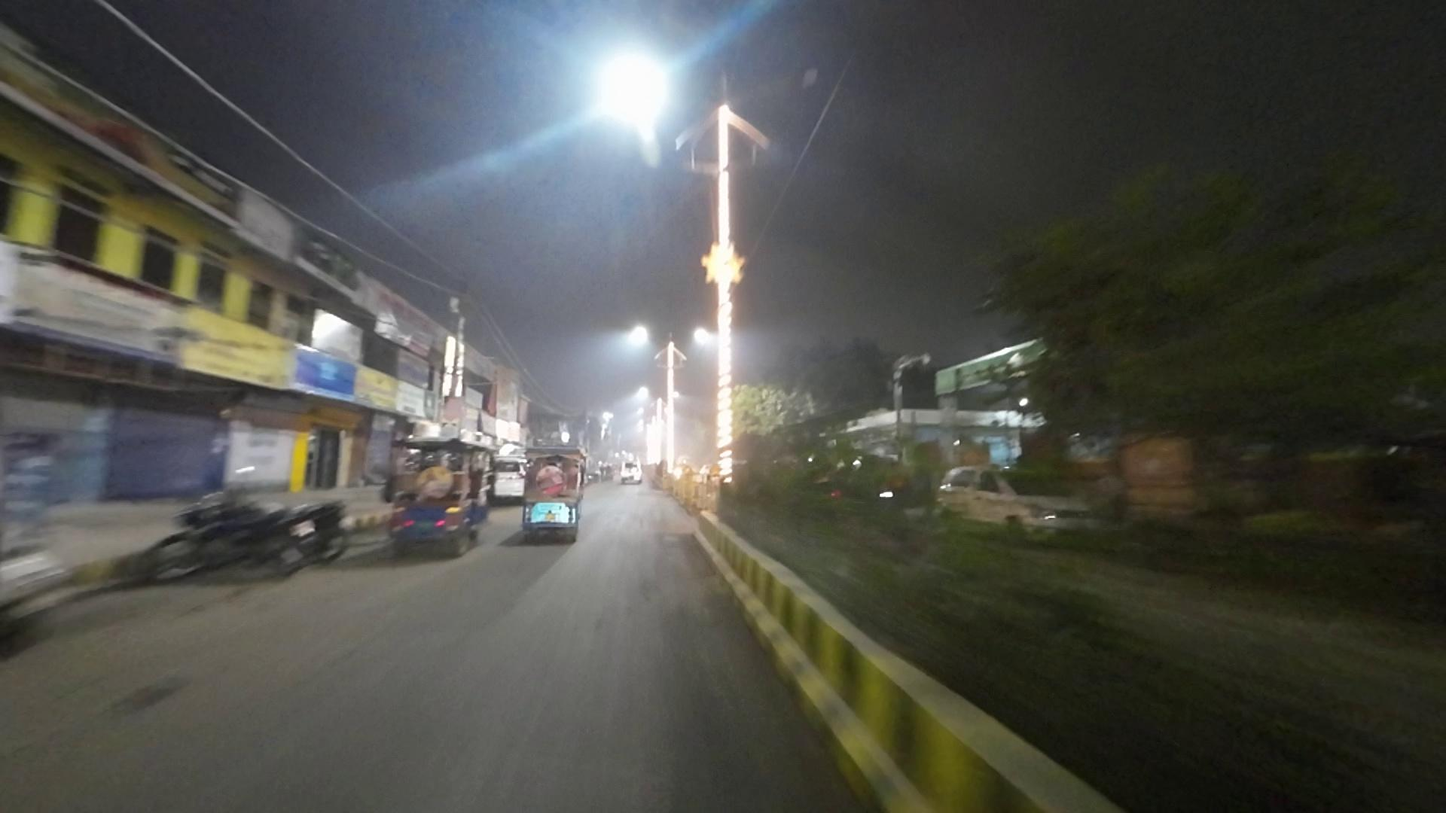streetlight: (735, 62, 823, 105)
